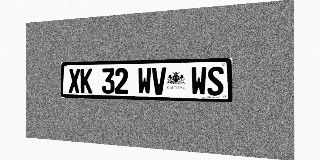2: (115, 68, 128, 94)
3: (102, 68, 115, 94)
K: (80, 68, 92, 93)
S: (207, 66, 224, 96)
V: (152, 67, 166, 95)
W: (191, 67, 207, 95), (138, 67, 151, 94)
X: (69, 69, 80, 93)
